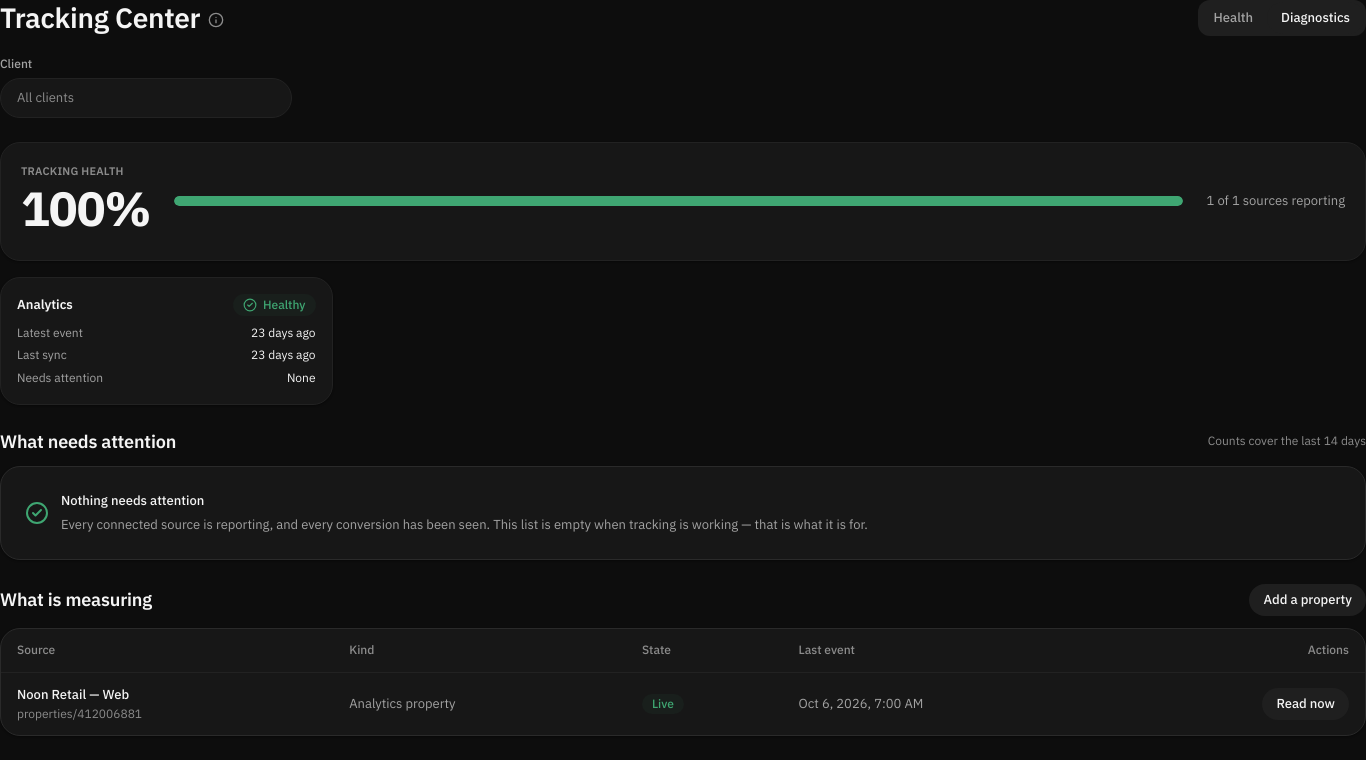
Test case: the tracking centre › says a failed read failed, and why
This screenshot has width=1366, height=760.
Step 1. Click the button "Read now" → click(1306, 704), box [1262,688,1349,720]
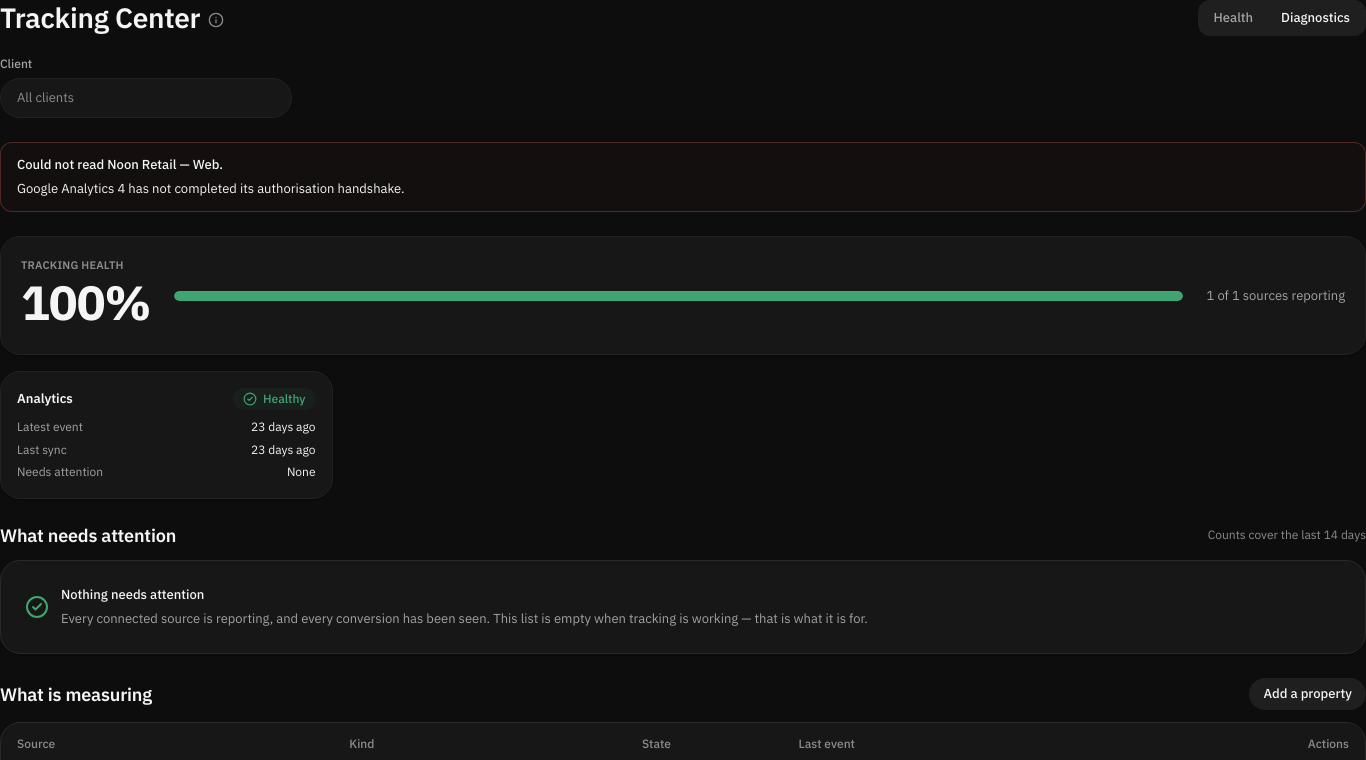
Check: the text "Google Analytics 4 has not completed its authorisation handshake." is shown, box [17,179,404,198]
